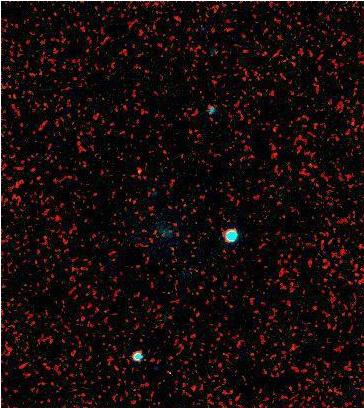star: (122, 158, 152, 188)
